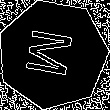M_E: (24, 27, 82, 82)
